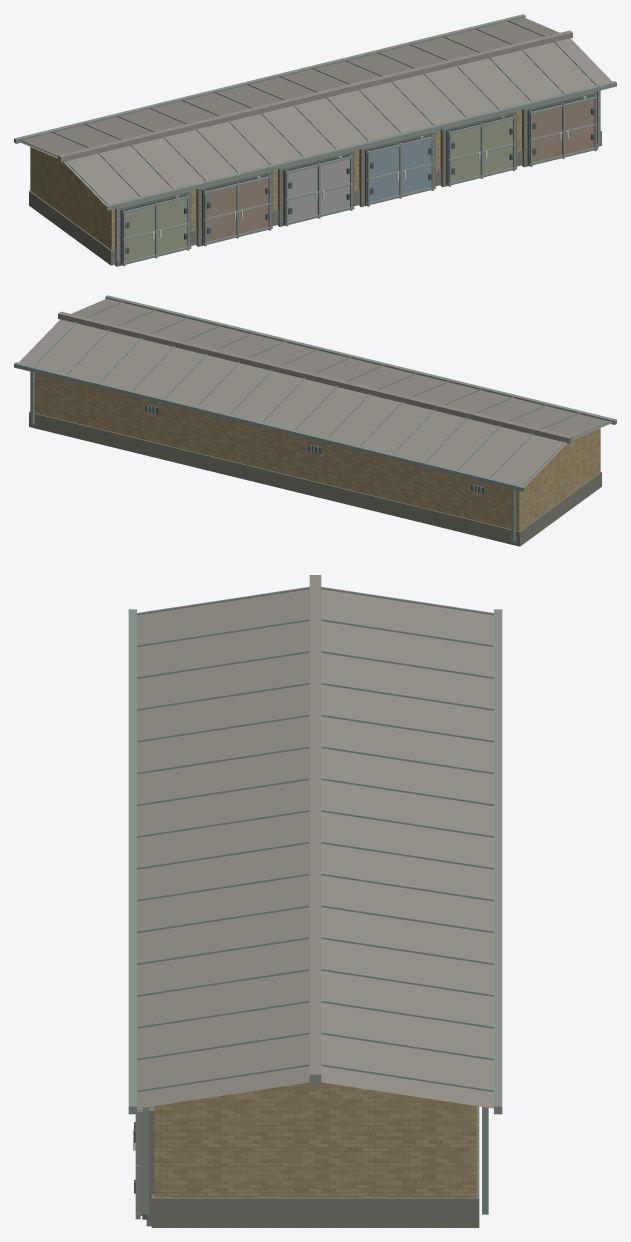
Rendered from garage_row_1.glb.
3 renders of one model, top to bottom at view 1: azimuth 30°, elevation 25°; view 2: azimuth 150°, elevation 25°; view 3: azimuth 270°, elevation 25°, orthographic. The views are drawn at different scales.
Parts seen in each view (by area): view 1: garage_row_1; view 2: garage_row_1; view 3: garage_row_1.
Boxes of the visible parts, x1,y1,x2,y2 form: garage_row_1: [14, 14, 616, 266]; garage_row_1: [14, 295, 616, 546]; garage_row_1: [128, 575, 502, 1227].
Bounding box in the file's own units: 22 × 3.42 × 6.96.
10 materials, 2 textured.
